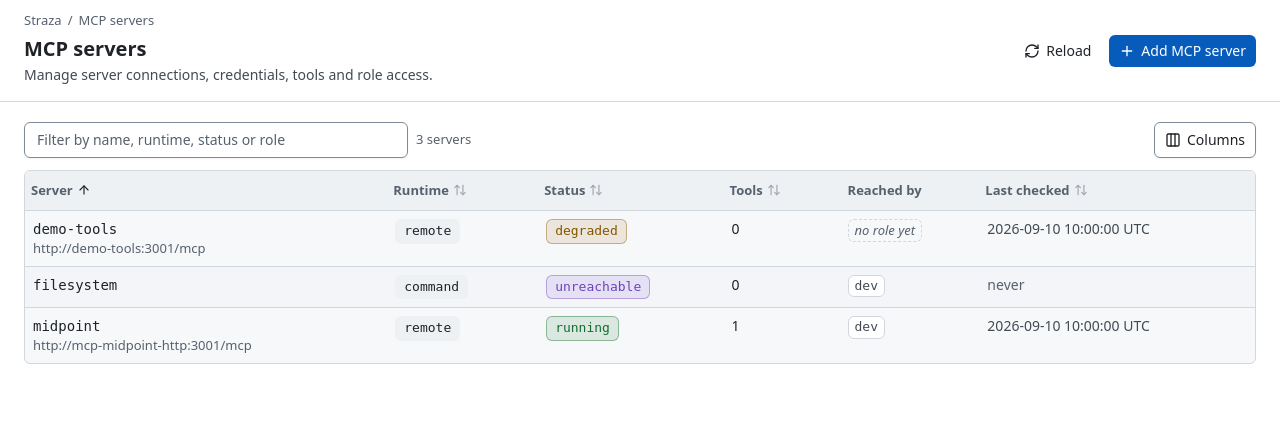
Test: the MCP servers screen › keeps the last good rows on screen when a reload cannot reach strazad
Expected: the button with aria-label "Open midpoint" is shown, x1=25 y1=308 x2=1255 y2=363
Click the button with aria-label "Reload the list" at (1058, 50), box x1=1014 y1=34 x2=1101 y2=66
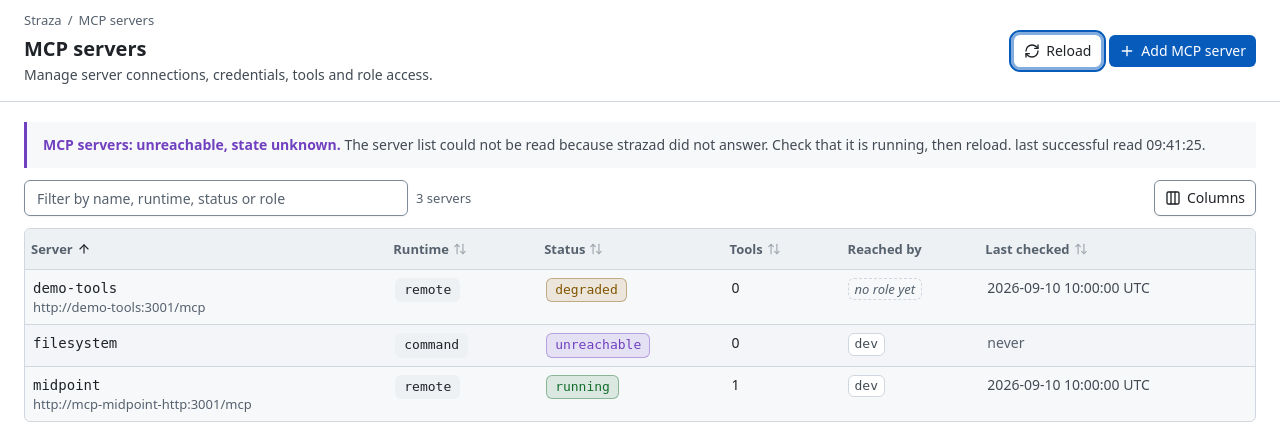
Now the message shows "MCP servers: unreachable, state unknown.", box x1=43 y1=134 x2=341 y2=154
Now the message shows "last successful read", box x1=1011 y1=134 x2=1206 y2=154
